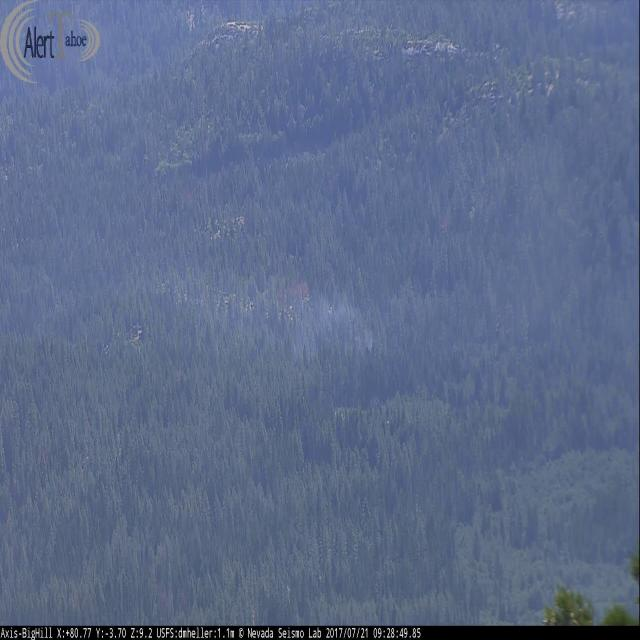smoke: (212, 291, 373, 364)
